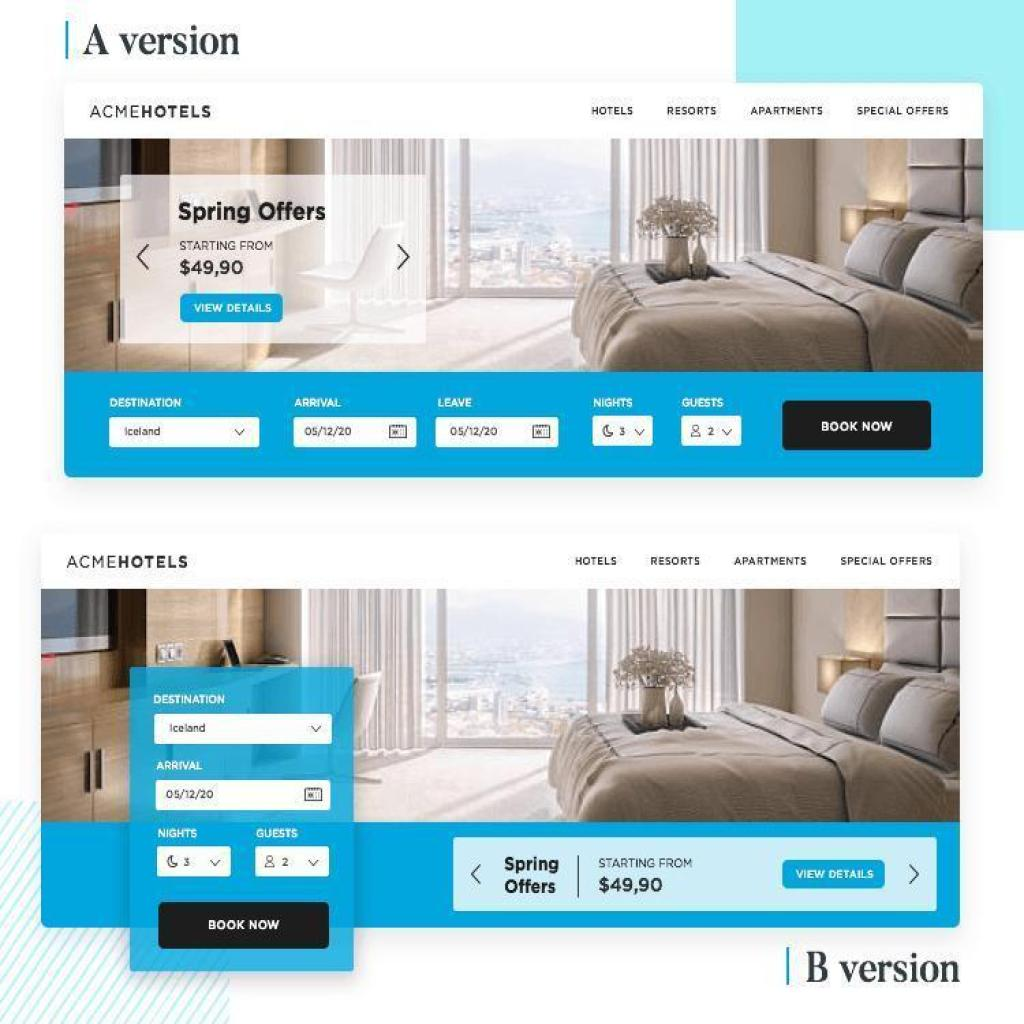button: (158, 902, 332, 950), (781, 402, 931, 453), (781, 860, 886, 890), (179, 294, 284, 322)
dropdown: (153, 714, 333, 744), (110, 417, 260, 447), (156, 846, 232, 876), (254, 848, 330, 876), (680, 414, 744, 447), (593, 414, 654, 444)
icon: (393, 240, 415, 276), (137, 243, 154, 271), (907, 863, 923, 891), (468, 860, 486, 884)
input: (156, 780, 332, 810), (294, 417, 418, 449), (436, 416, 560, 448)
label: (855, 102, 953, 119), (104, 393, 188, 411), (838, 553, 932, 569), (732, 552, 808, 568), (294, 390, 342, 414), (681, 390, 728, 413), (748, 104, 825, 117), (153, 693, 229, 706), (437, 387, 472, 410), (586, 394, 636, 410), (154, 759, 204, 775), (588, 102, 635, 119), (668, 104, 718, 119), (652, 554, 704, 568), (254, 827, 302, 842), (572, 554, 617, 569), (157, 827, 199, 843)
